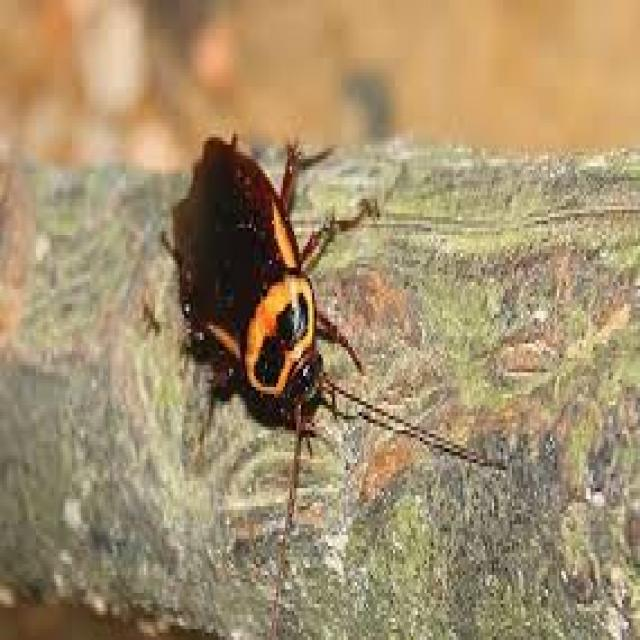Cockroach: (146, 111, 505, 604)
